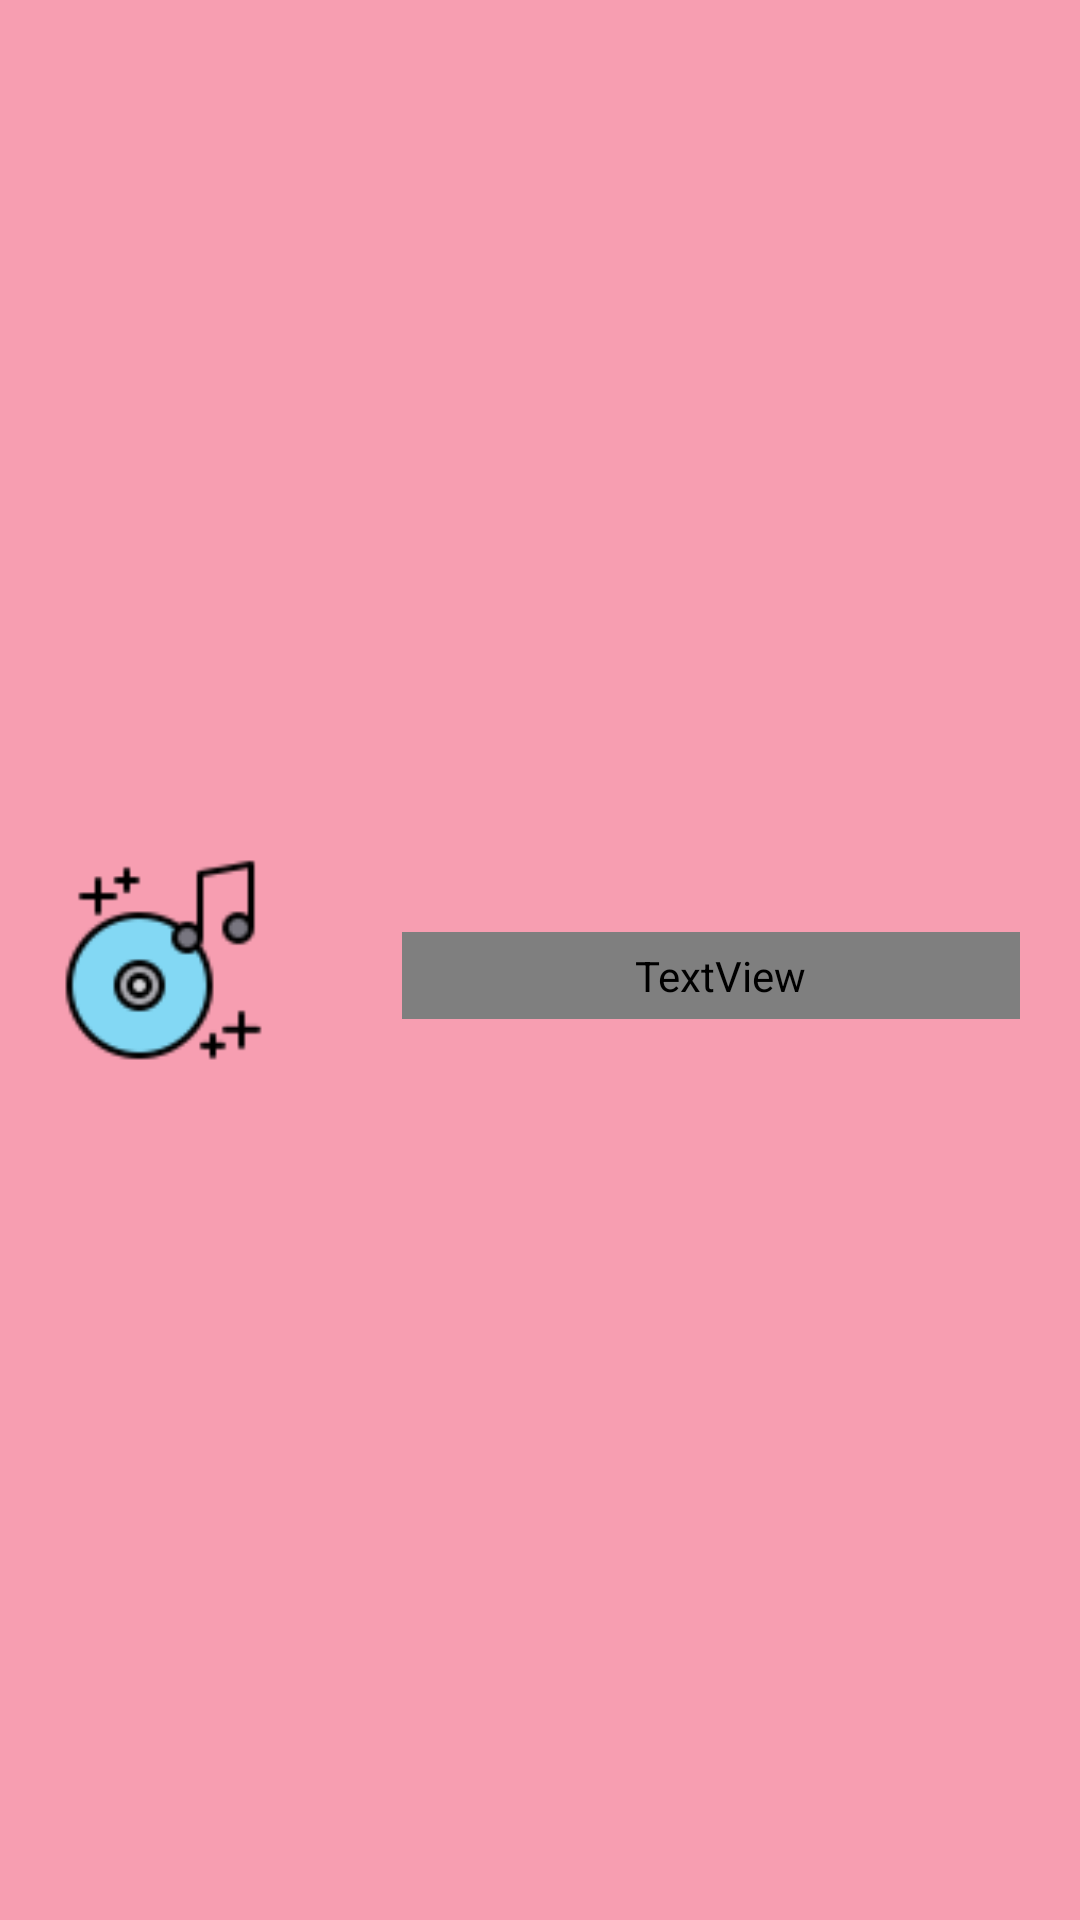

Screen size 1080*1920. Icon name, then its center in pixels as (x=x, y=y):
musica: (x=163, y=960)
